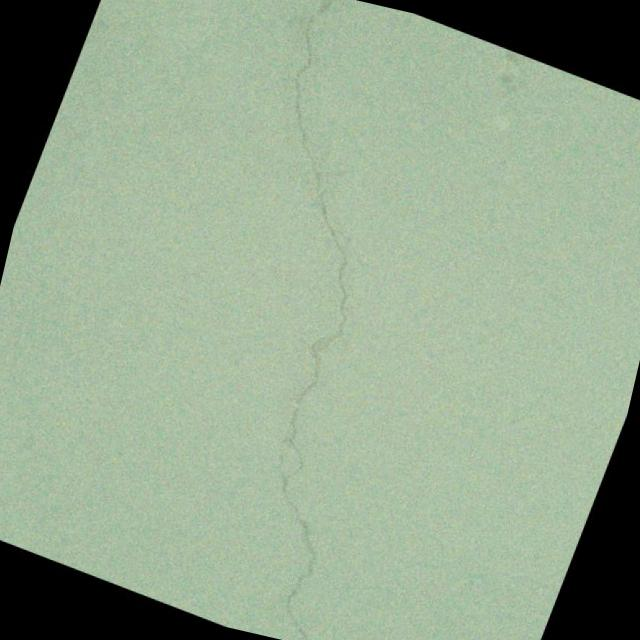crack: (88, 0, 565, 640)
